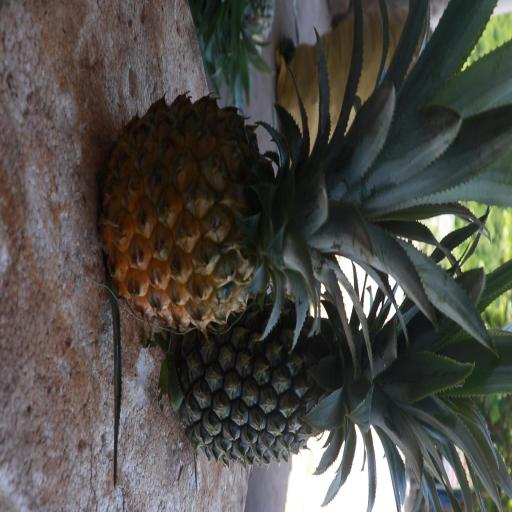Pineapple - v8 v1: (105, 102, 436, 322)
